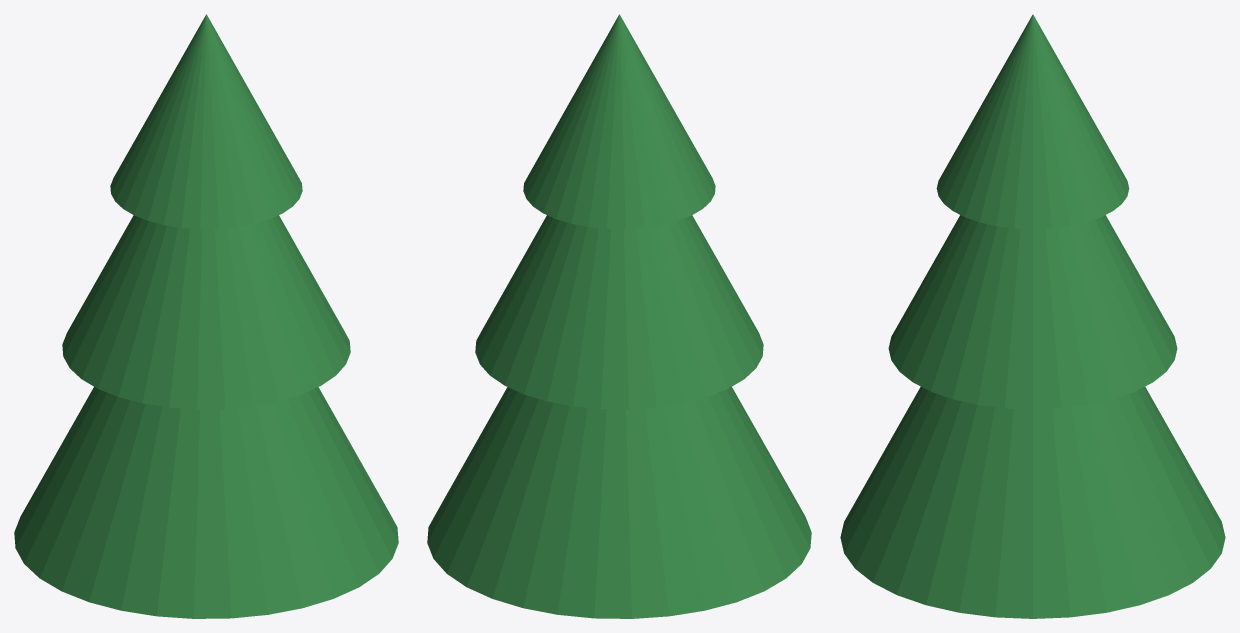
The model's file is tree-claudesonnet46.glb.
3 renders of one model, left to right at view 1: azimuth 30°, elevation 25°; view 2: azimuth 150°, elevation 25°; view 3: azimuth 270°, elevation 25°, orthographic.
Parts seen in each view (by area): view 1: PineTree; view 2: PineTree; view 3: PineTree.
Boxes of the visible parts, x1,y1,x2,y2 form: PineTree: (14,14,398,618); PineTree: (427,14,811,618); PineTree: (840,14,1225,618).
Size of the model in its own units: 2.4 by 4 by 2.4.
